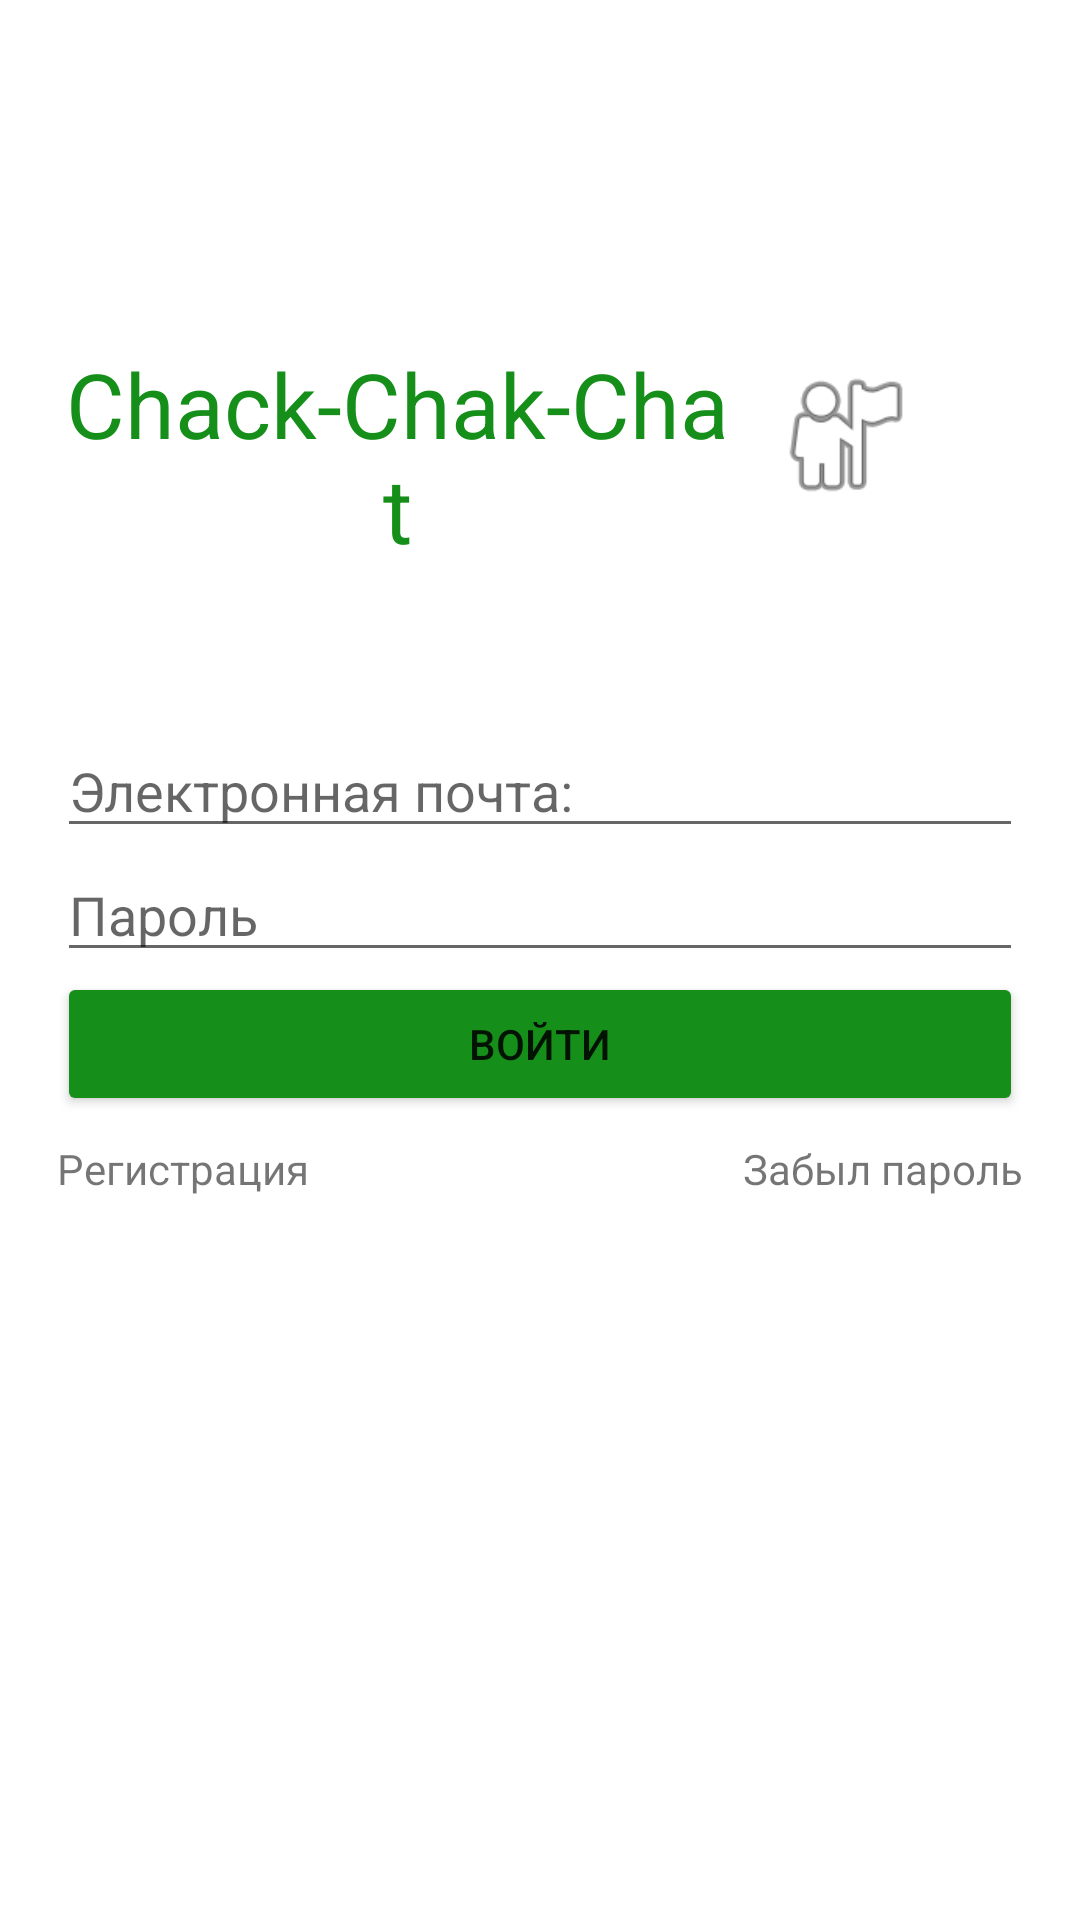

Where icons sit on this 1080*1920 app screen, as [x1, y1, x2, y2]:
myplaces: [790, 379, 903, 491]
